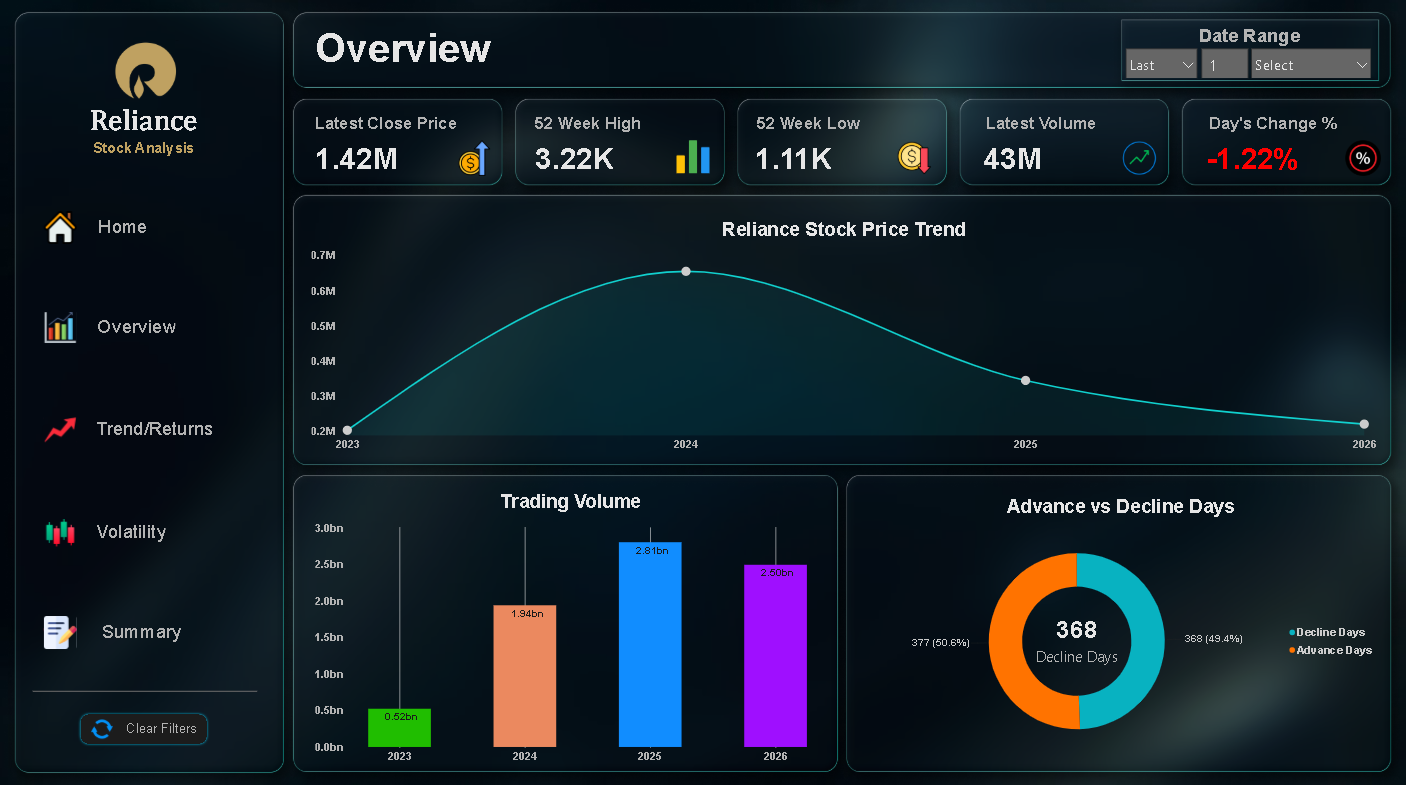

What the dashboard file says about the page in this screenshot:
{"tool":"powerbi","page":{"name":"Overview","canvas":[2560,1440],"ordinal":1},"visuals":[{"type":"textbox","box":[164.8,193.9,200,62.1],"z":0,"group":"g3"},{"type":"cardVisual","title":"Latest Close Price","fields":{"Data":["Sum(Stock project row data.CLOSE)"]},"box":[560,209.6,288,112],"z":0},{"type":"cardVisual","title":"52 Week High","fields":{"Data":["Max(Stock project row data.52 WEEK HIGH)"]},"box":[960,209.6,224,112],"z":1000},{"type":"image","box":[204.8,64,120,131.9],"z":2000,"group":"g3"},{"type":"cardVisual","title":"52 Week Low","fields":{"Data":["Min(Stock project row data.52 WEEK LOW)"]},"box":[1360,209.6,224,112],"z":2000},{"type":"textbox","box":[168.8,254,192,32],"z":2000,"group":"g4"},{"type":"cardVisual","title":"Latest Volume","fields":{"Data":["Max(Stock project row data.VOLUME)"]},"box":[1776,209.6,240,112],"z":3000},{"type":"cardVisual","title":"Day''s Change %","fields":{"Data":["Stock project row data.Day's Change %"]},"box":[2180,209.6,272,112],"z":4000},{"type":"lineChart","title":"Reliance Stock Price Trend","fields":{"Category":["Stock project row data.DATE.Variation.Date Hierarchy.Year","Stock project row data.DATE.Variation.Date Hierarchy.Quarter","Stock project row data.DATE.Variation.Date Hierarchy.Month","Stock project row data.DATE.Variation.Date Hierarchy.Day"],"Y":["Sum(Stock project row data.CLOSE)"]},"box":[552,384,1968,456],"z":5000},{"type":"clusteredColumnChart","title":"Trading Volume","fields":{"Category":["Stock project row data.DATE.Variation.Date Hierarchy.Year","Stock project row data.DATE.Variation.Date Hierarchy.Quarter","Stock project row data.DATE.Variation.Date Hierarchy.Month","Stock project row data.DATE.Variation.Date Hierarchy.Day"],"Y":["Sum(Stock project row data.VOLUME)"]},"box":[560,880,960,528],"z":6000},{"type":"slicer","title":"Date Range","fields":{"Values":["Stock project row data.DATE"]},"box":[2040,48,464,96],"z":7000},{"type":"donutChart","title":"Advance vs Decline Days","fields":{"Y":["Stock project row data.Decline Days","Stock project row data.Advance Days"]},"box":[1560,888,960,504],"z":8000},{"type":"textbox","box":[576,48,888,120],"z":9000},{"type":"group","id":"g1","title":"Group 5","box":[60.8,64,408,1232],"z":10000},{"type":"actionButton","box":[60.8,360,408,112],"z":10000,"group":"g2"},{"type":"group","id":"g2","title":"Group 1","box":[60.8,360,408,936],"z":11000,"group":"g1"},{"type":"actionButton","box":[60.8,541.9,408,112],"z":11000,"group":"g2"},{"type":"actionButton","box":[144,1296,240,64],"z":11000},{"type":"image","box":[832,256,65,65],"z":12000},{"type":"actionButton","box":[60.8,913.6,408,112],"z":12000,"group":"g2"},{"type":"group","id":"g3","title":"Group 3","box":[164.8,64,200,192],"z":13000,"group":"g4"},{"type":"image","box":[1232,256,60,60],"z":13000},{"type":"actionButton","box":[60.8,723.8,408,120],"z":13000,"group":"g2"},{"type":"group","id":"g4","title":"Group 4","box":[164.8,64,200,222],"z":13001,"group":"g1"},{"type":"image","box":[1632,256,65,65],"z":14000},{"type":"actionButton","box":[60.8,1095.5,408,112],"z":14000,"group":"g2"},{"type":"image","box":[2042,256,65,65],"z":14001},{"type":"image","box":[2448,256,65,65],"z":14002},{"type":"shape","box":[60.8,1224,408,72],"z":15000,"group":"g2"}]}

Visuals, with their boxes in screenshot pixels (x1, y1, x2, y2), scaled from the page's 2560x1440 canvas onto the 1406x785 screenshot:
textbox: left=91, top=106, right=200, bottom=140
"Latest Close Price" cardVisual: left=308, top=114, right=466, bottom=175
"52 Week High" cardVisual: left=527, top=114, right=650, bottom=175
image: left=112, top=35, right=178, bottom=107
"52 Week Low" cardVisual: left=747, top=114, right=870, bottom=175
textbox: left=93, top=138, right=198, bottom=156
"Latest Volume" cardVisual: left=975, top=114, right=1107, bottom=175
"Day''s Change %" cardVisual: left=1197, top=114, right=1347, bottom=175
"Reliance Stock Price Trend" lineChart: left=303, top=209, right=1384, bottom=458
"Trading Volume" clusteredColumnChart: left=308, top=480, right=835, bottom=768
"Date Range" slicer: left=1120, top=26, right=1375, bottom=78
"Advance vs Decline Days" donutChart: left=857, top=484, right=1384, bottom=759
textbox: left=316, top=26, right=804, bottom=92
"Group 5" group: left=33, top=35, right=257, bottom=706
actionButton: left=33, top=196, right=257, bottom=257
"Group 1" group: left=33, top=196, right=257, bottom=706
actionButton: left=33, top=295, right=257, bottom=356
actionButton: left=79, top=706, right=211, bottom=741
image: left=457, top=140, right=493, bottom=175
actionButton: left=33, top=498, right=257, bottom=559
"Group 3" group: left=91, top=35, right=200, bottom=140
image: left=677, top=140, right=710, bottom=172
actionButton: left=33, top=395, right=257, bottom=460
"Group 4" group: left=91, top=35, right=200, bottom=156
image: left=896, top=140, right=932, bottom=175
actionButton: left=33, top=597, right=257, bottom=658
image: left=1122, top=140, right=1157, bottom=175
image: left=1344, top=140, right=1380, bottom=175
shape: left=33, top=667, right=257, bottom=706
